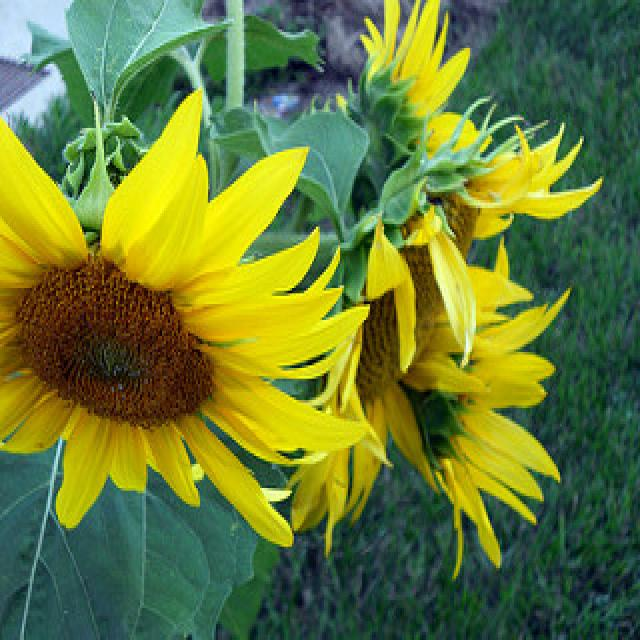sunflower: (0, 90, 374, 538)
